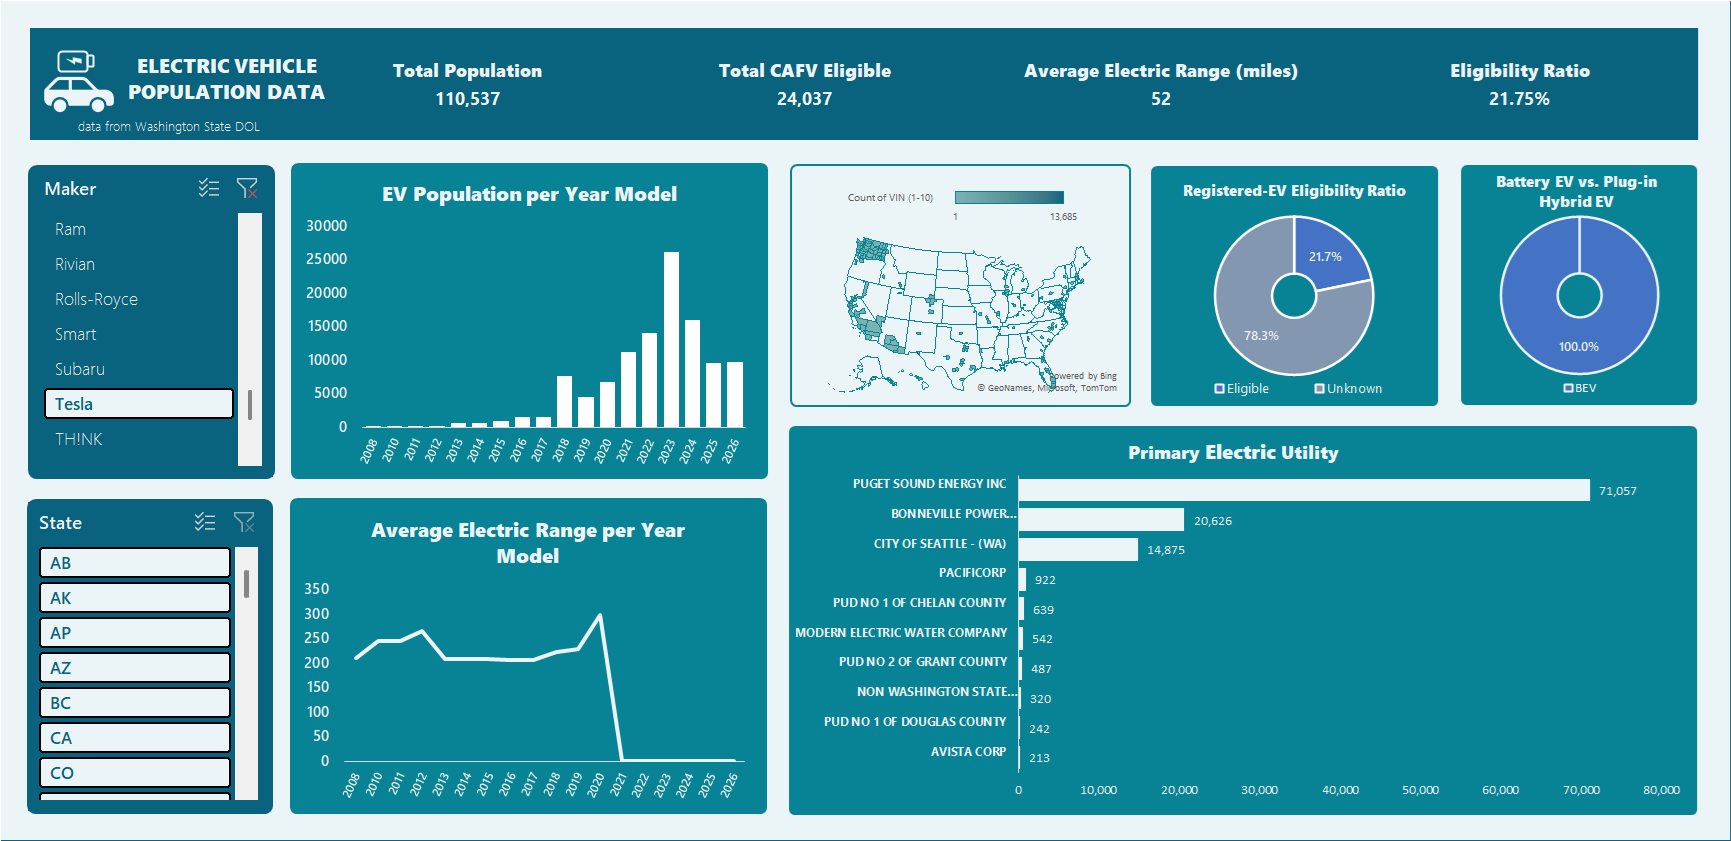

Layout of this report page (visuals, bound fields, positions):
{"tool":"powerbi","page":{"name":"Executive Overview","canvas":[1280,720],"ordinal":0},"visuals":[{"type":"card","title":"Total Electric Vehicles","fields":{"Values":["vw_EV_PowerBI_Ready.Total EVs"]},"box":[436,34,226,118],"z":0},{"type":"card","title":"Clean Alternative Fuel Vehicle (CAFV) Eligible EVs","fields":{"Values":["vw_EV_PowerBI_Ready.Incentivization %"]},"box":[675,34,226,118],"z":1000},{"type":"card","title":"Average Electric Range of an EV/s","fields":{"Values":["vw_EV_PowerBI_Ready.Ave Electric Range"]},"box":[914,34,228,118],"z":2000},{"type":"slicer","title":"Sort by type","fields":{"Values":["vw_EV_PowerBI_Ready.ev_type"]},"box":[1151.2,95,115,56.2],"z":3000},{"type":"columnChart","title":"The Population of Modern Electric Vehicles","fields":{"Category":["vw_EV_PowerBI_Ready.year_model.Variation.Date Hierarchy.Year"],"Y":["vw_EV_PowerBI_Ready.Total EVs"]},"box":[12.5,190,408.8,246.2],"z":4000},{"type":"areaChart","fields":{"Category":["vw_EV_PowerBI_Ready.year_model"],"Y":["vw_EV_PowerBI_Ready.Ave Electric Range"]},"box":[436.2,190,421.2,246.2],"z":5000},{"type":"treemap","fields":{"Group":["vw_EV_PowerBI_Ready.maker"],"Values":["vw_EV_PowerBI_Ready.Total EVs"]},"box":[871.2,190,395,492.5],"z":6000},{"type":"donutChart","title":"How many EV owner getting incentivized?","fields":{"Category":["vw_EV_PowerBI_Ready.validated_eligibility"],"Y":["CountNonNull(vw_EV_PowerBI_Ready.validated_eligibility)"]},"box":[12.5,436.2,408.8,246.2],"z":7000},{"type":"textbox","box":[17.5,33.8,403.8,117.5],"z":8000},{"type":"textbox","box":[6.6,21.1,78.2,132.7],"z":9000},{"type":"map","fields":{"X":["vw_EV_PowerBI_Ready.longitude"],"Y":["vw_EV_PowerBI_Ready.latitude"]},"box":[436.2,436.2,421.2,246.2],"z":10000},{"type":"shape","box":[0,165,1280,7.5],"z":11000},{"type":"shape","box":[0,14.3,1280,7.1],"z":12000},{"type":"shape","box":[0,697.1,1280,8.6],"z":13000},{"type":"image","box":[1150,39.4,116.1,30.6],"z":14000},{"type":"image","box":[1180,70,57.8,17.2],"z":15000}]}

Visuals, with their boxes on the page's 1280x720 design canvas (x1, y1, x2, y2). These are canvas units, not pixel positions in the 1731x841 screenshot, which may show the page scaled, cropped or inside an application window:
"Total Electric Vehicles" card: [left=436, top=34, right=662, bottom=152]
"Clean Alternative Fuel Vehicle (CAFV) Eligible EVs" card: [left=675, top=34, right=901, bottom=152]
"Average Electric Range of an EV/s" card: [left=914, top=34, right=1142, bottom=152]
"Sort by type" slicer: [left=1151, top=95, right=1266, bottom=151]
"The Population of Modern Electric Vehicles" columnChart: [left=12, top=190, right=421, bottom=436]
areaChart - vw_EV_PowerBI_Ready.year_model x vw_EV_PowerBI_Ready.Ave Electric Range: [left=436, top=190, right=857, bottom=436]
treemap - vw_EV_PowerBI_Ready.maker x vw_EV_PowerBI_Ready.Total EVs: [left=871, top=190, right=1266, bottom=682]
"How many EV owner getting incentivized?" donutChart: [left=12, top=436, right=421, bottom=682]
textbox: [left=18, top=34, right=421, bottom=151]
textbox: [left=7, top=21, right=85, bottom=154]
map - vw_EV_PowerBI_Ready.longitude x vw_EV_PowerBI_Ready.latitude: [left=436, top=436, right=857, bottom=682]
shape: [left=0, top=165, right=1280, bottom=172]
shape: [left=0, top=14, right=1280, bottom=21]
shape: [left=0, top=697, right=1280, bottom=706]
image: [left=1150, top=39, right=1266, bottom=70]
image: [left=1180, top=70, right=1238, bottom=87]
